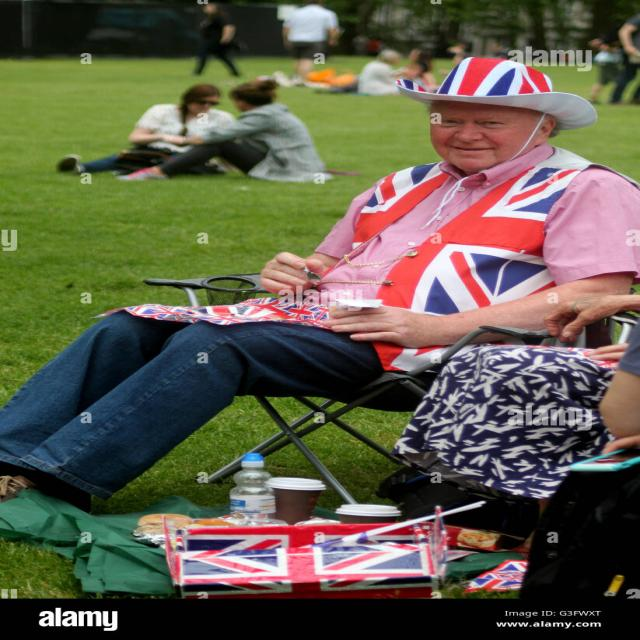Walking: (187, 4, 244, 79), (402, 49, 438, 89)
human: (321, 119, 542, 278), (396, 59, 585, 215), (390, 56, 616, 183), (504, 46, 597, 71), (177, 84, 220, 134), (230, 78, 278, 106), (618, 14, 638, 54)
loitering: (7, 71, 622, 488), (449, 311, 638, 594), (63, 80, 335, 188), (281, 0, 340, 90), (592, 11, 638, 108), (324, 52, 419, 95)
